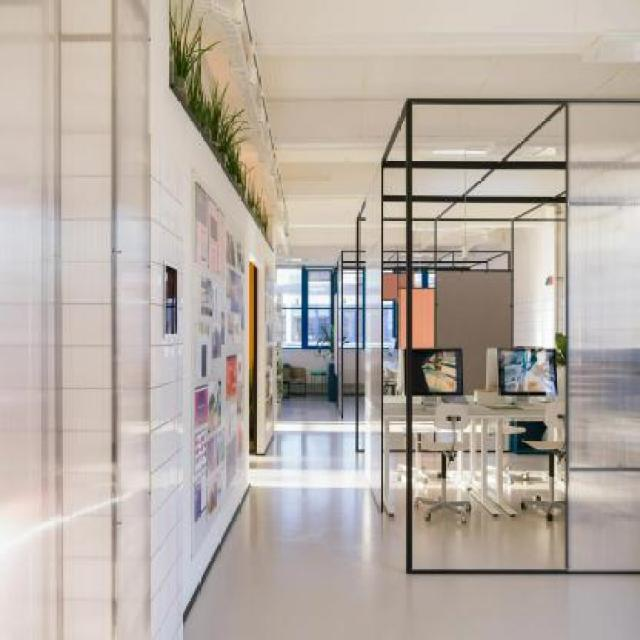Floor: (183, 393, 640, 640)
